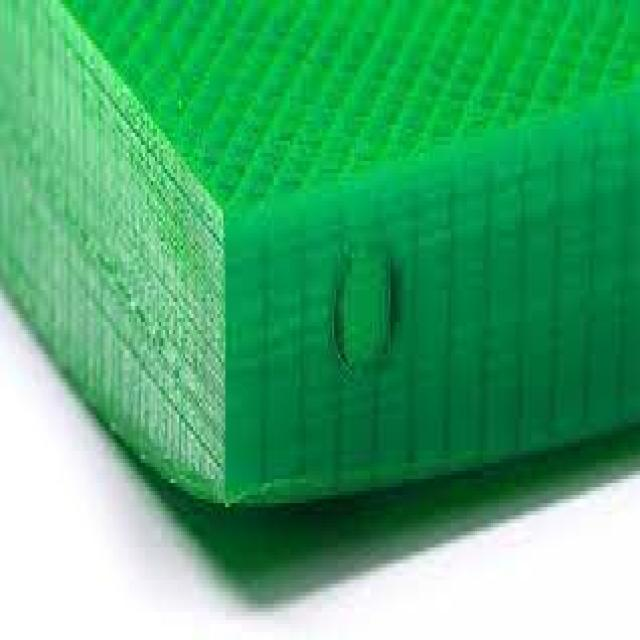Warping: (90, 394, 572, 536)
